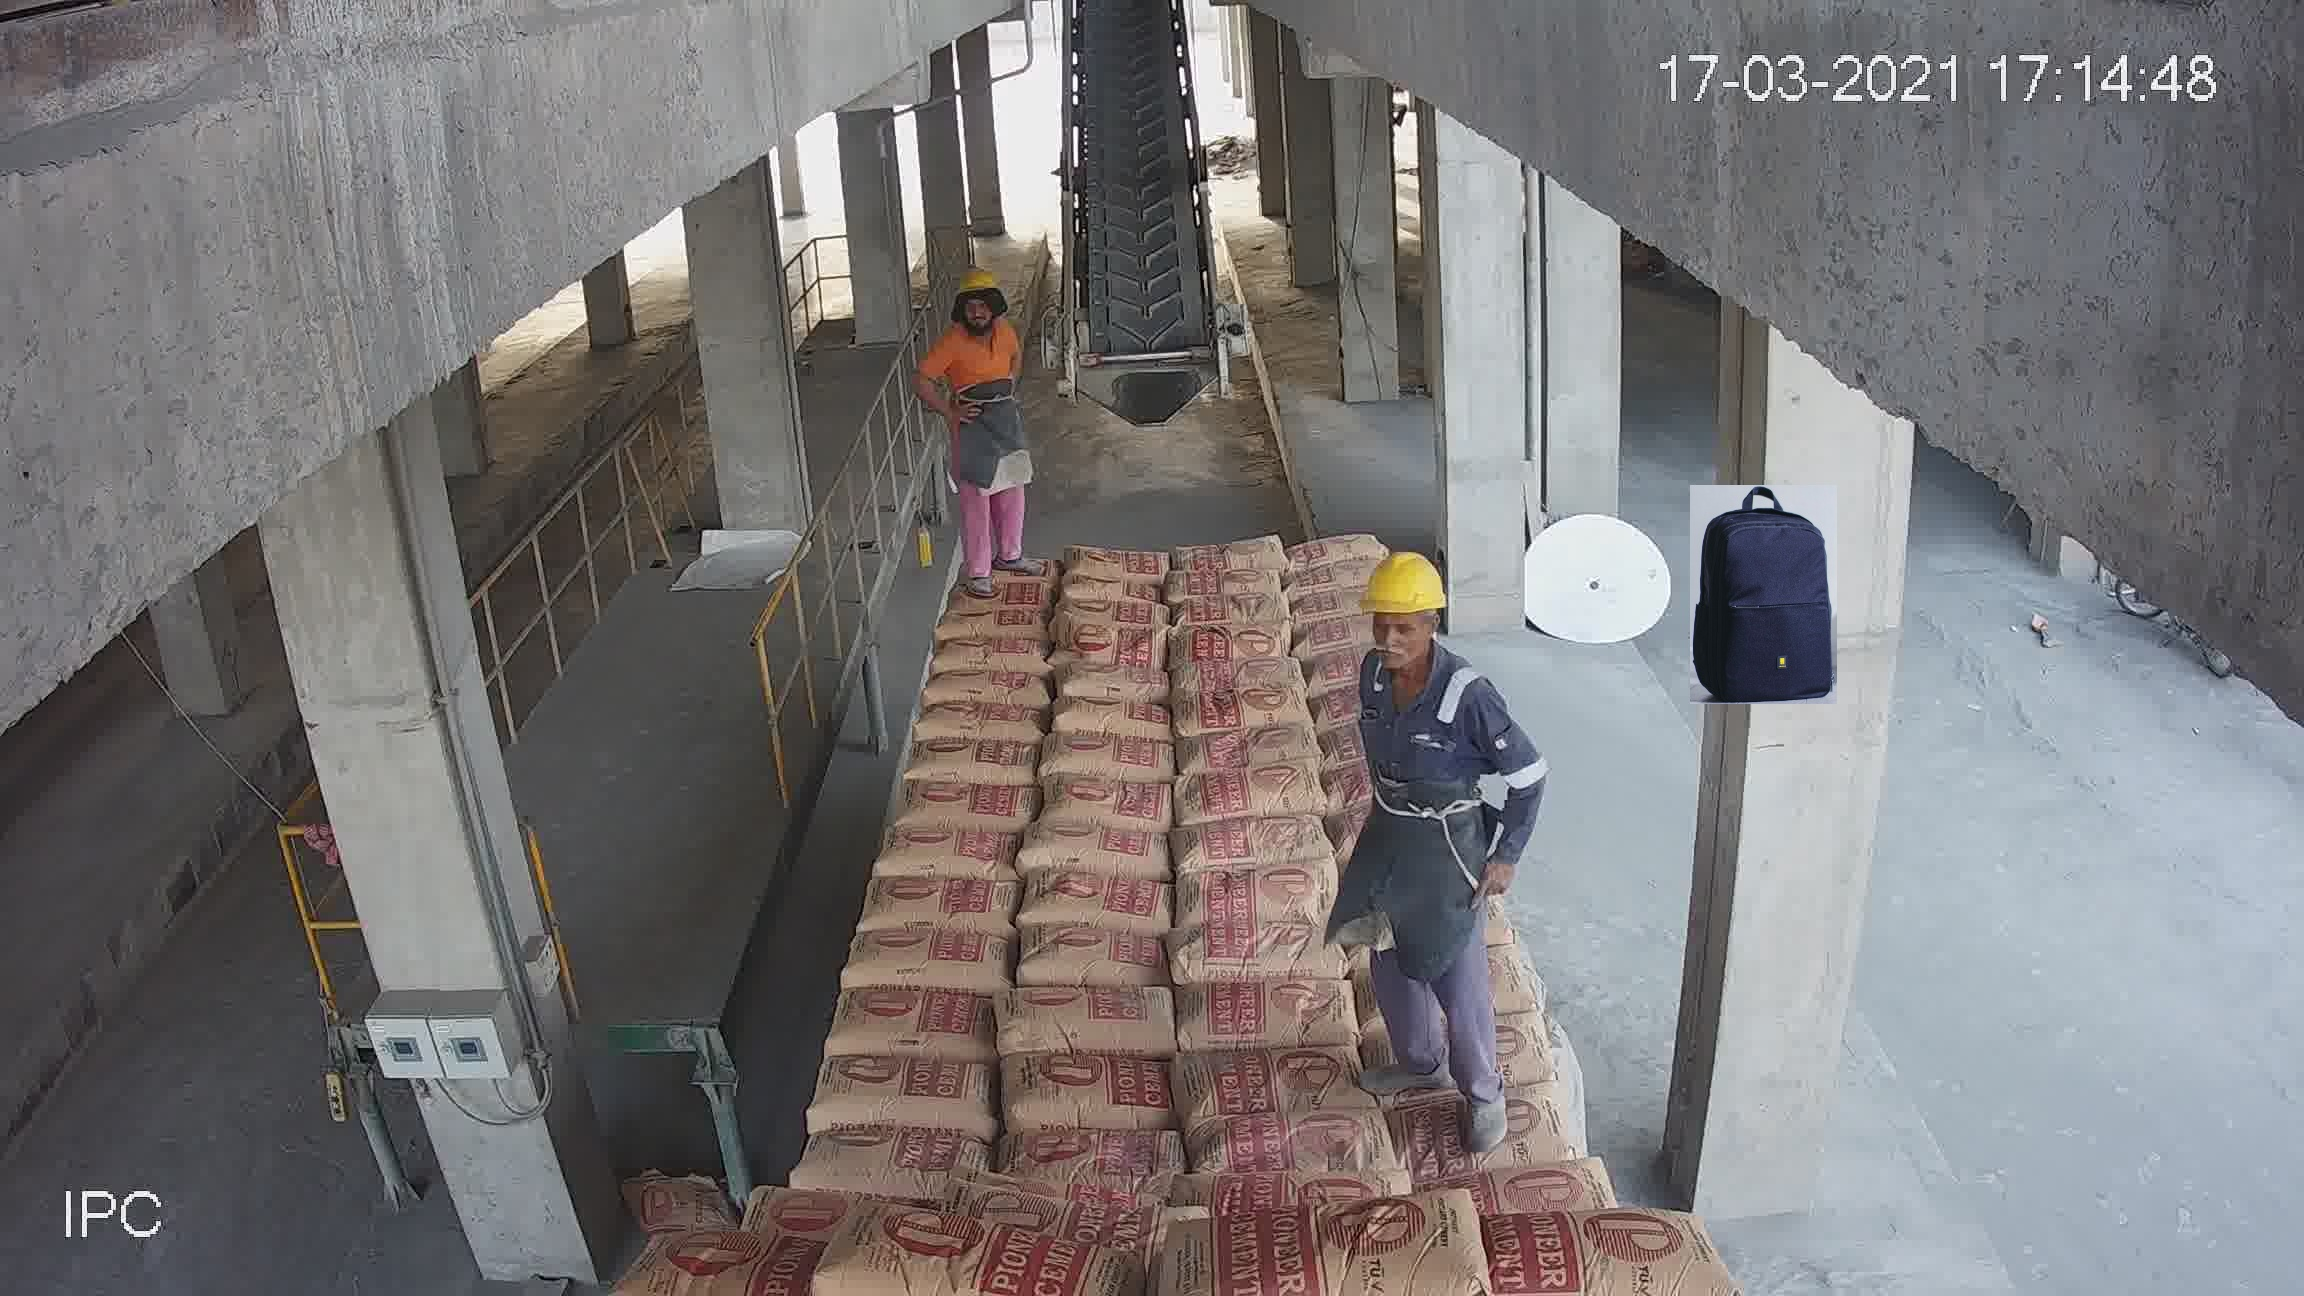bag_h: (798, 1214, 1128, 1294), (1445, 1204, 1719, 1291), (1201, 1212, 1484, 1294), (1190, 1076, 1399, 1166), (1180, 1101, 1378, 1185), (1174, 975, 1377, 1054), (805, 1054, 1006, 1133), (999, 987, 1185, 1063), (826, 981, 1003, 1060), (855, 873, 1029, 949), (1011, 1051, 1184, 1127), (788, 1128, 1000, 1190), (639, 1230, 839, 1294), (999, 1122, 1188, 1188), (1419, 1108, 1589, 1180), (839, 927, 1014, 994), (1438, 1160, 1617, 1225), (1176, 756, 1332, 828), (1180, 927, 1348, 991), (1021, 813, 1169, 885), (1180, 861, 1332, 930), (1014, 932, 1176, 991), (1025, 873, 1184, 932), (1177, 812, 1323, 875), (1044, 774, 1184, 836), (892, 782, 1040, 836), (873, 831, 1021, 883), (908, 698, 1057, 747), (905, 736, 1040, 790), (1177, 687, 1321, 734), (1177, 726, 1317, 775), (1062, 609, 1166, 673), (1169, 652, 1301, 699), (910, 663, 1046, 707), (1051, 739, 1177, 786), (1060, 657, 1176, 707), (1052, 696, 1168, 745), (926, 636, 1062, 676), (956, 578, 1068, 623), (1173, 619, 1291, 661), (1283, 516, 1394, 559), (1169, 590, 1294, 627), (1168, 563, 1287, 601), (1054, 597, 1177, 633), (934, 604, 1046, 644), (1168, 525, 1287, 562), (1071, 541, 1171, 581), (1052, 573, 1165, 606), (1288, 560, 1378, 593)
belt: (1059, 13, 1212, 366)
